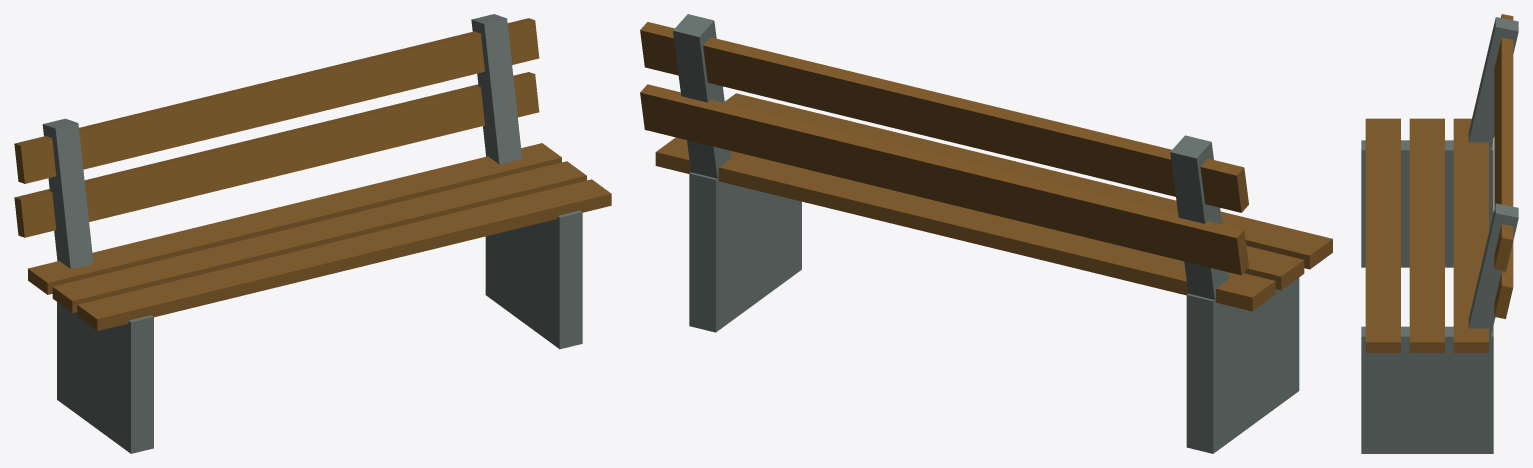
The model's file is SM_Banco_v0_LOD0.fbx.
3 views of the same model, side by side, from view 1: azimuth 30°, elevation 25°; view 2: azimuth 150°, elevation 25°; view 3: azimuth 270°, elevation 25° (orthographic). The views are drawn at different scales.
Visible parts, largest first — view 1: SM_urbano_v10_LOD0; view 2: SM_urbano_v10_LOD0; view 3: SM_urbano_v10_LOD0.
Part boxes in pixels (box(x1,y1,x2,y2)): SM_urbano_v10_LOD0: box(14, 14, 611, 453); SM_urbano_v10_LOD0: box(640, 14, 1332, 453); SM_urbano_v10_LOD0: box(1361, 14, 1518, 453).
Size of the model in its own units: 1.8 by 0.9029 by 0.5361.
